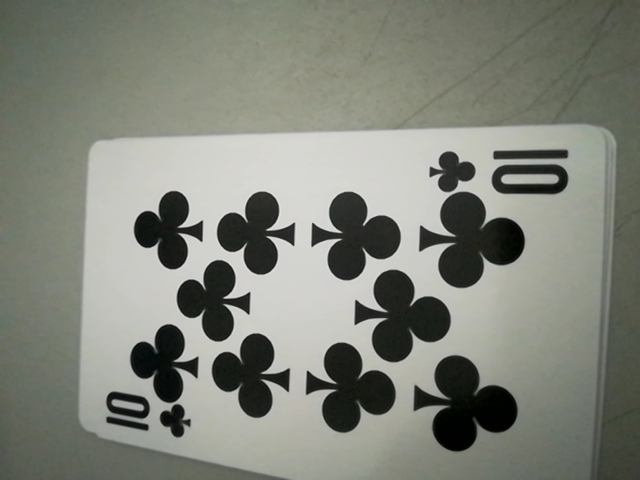mh 10: (425, 138, 580, 198), (96, 391, 195, 447)
